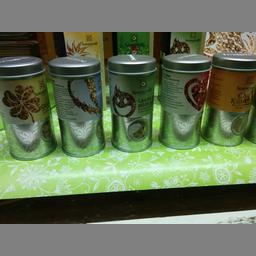spices: (48, 54, 105, 158), (0, 55, 55, 160), (200, 52, 255, 148), (158, 52, 212, 148), (108, 52, 156, 150)
